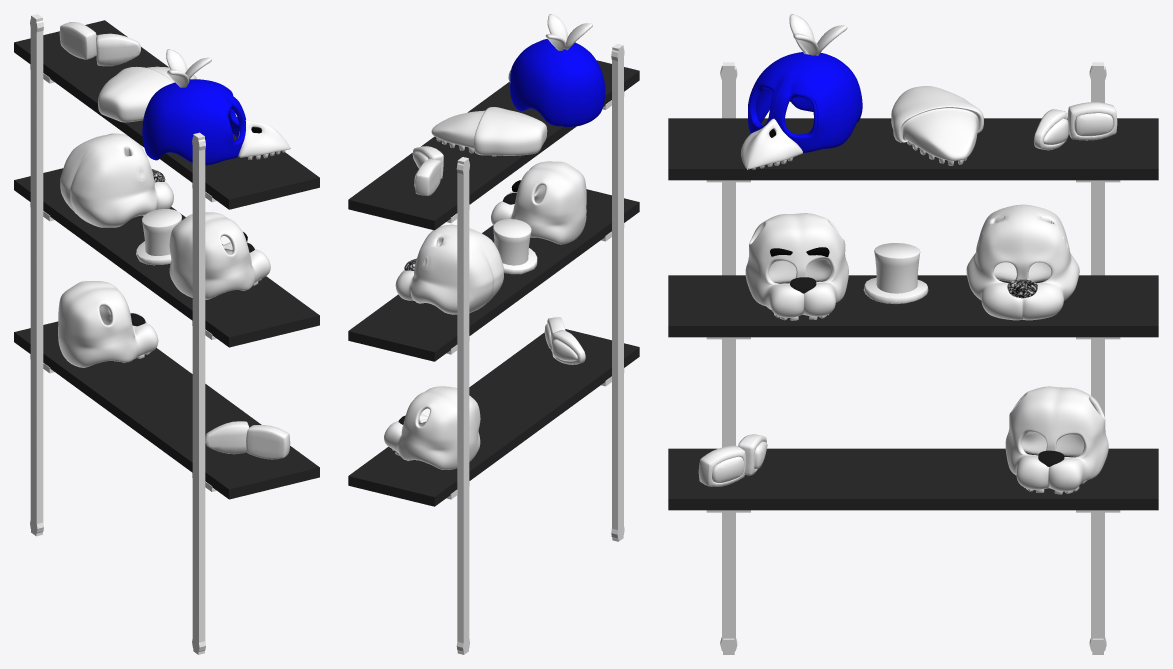
Rendered from BackstageShelf1.glb.
3 renders of one model, left to right at view 1: azimuth 30°, elevation 25°; view 2: azimuth 150°, elevation 25°; view 3: azimuth 270°, elevation 25°, orthographic. The views are drawn at different scales.
Visible parts, largest first — view 1: Cube.005, Cube.002, Cube.003, Cube, RIG_Bonnie.mo.001, RIG_Chica_Finale.mo.002, RIG_FreddyForJumpscare.mo.001, RIG_FreddyForJumpscare.mo.097, RIG_Chica_Finale.mo.006, Hat, RIG_Chica_Finale.mo.005, RIG_Bonnie.mo.003 (+3 smaller); view 2: Cube.005, Cube.002, Cube.003, Cube, RIG_Chica_Finale.mo.002, RIG_Bonnie.mo.001, RIG_FreddyForJumpscare.mo.097, RIG_FreddyForJumpscare.mo.001, RIG_Chica_Finale.mo.006, Hat, RIG_Bonnie.mo.005, RIG_Bonnie.mo.002 (+1 smaller); view 3: Cube.005, Cube, Cube.003, Cube.002, RIG_Bonnie.mo.001, RIG_FreddyForJumpscare.mo.001, RIG_FreddyForJumpscare.mo.097, RIG_Chica_Finale.mo.002, RIG_Chica_Finale.mo.006, Hat, RIG_Chica_Finale.mo.005, RIG_Bonnie.mo.002 (+3 smaller).
Part boxes in pixels (x1,y1,x2,y2): Cube.005: [14, 321, 319, 499]; Cube.002: [30, 14, 205, 654]; Cube.003: [14, 168, 319, 347]; Cube: [14, 20, 319, 209]; RIG_Bonnie.mo.001: [60, 133, 173, 227]; RIG_Chica_Finale.mo.002: [142, 79, 245, 165]; RIG_FreddyForJumpscare.mo.001: [58, 281, 158, 367]; RIG_FreddyForJumpscare.mo.097: [169, 212, 270, 299]; RIG_Chica_Finale.mo.006: [98, 66, 196, 122]; Hat: [136, 209, 181, 265]; RIG_Chica_Finale.mo.005: [238, 120, 290, 159]; RIG_Bonnie.mo.003: [246, 425, 290, 459]; Cube.005: [348, 329, 639, 506]; Cube.002: [456, 43, 624, 654]; Cube.003: [348, 189, 639, 361]; Cube: [348, 60, 639, 230]; RIG_Chica_Finale.mo.002: [510, 39, 605, 126]; RIG_Bonnie.mo.001: [395, 224, 503, 314]; RIG_FreddyForJumpscare.mo.097: [491, 161, 586, 244]; RIG_FreddyForJumpscare.mo.001: [384, 386, 480, 469]; RIG_Chica_Finale.mo.006: [431, 107, 547, 156]; Hat: [493, 219, 537, 274]; RIG_Bonnie.mo.005: [552, 330, 585, 364]; RIG_Bonnie.mo.002: [414, 158, 441, 195]; Cube.005: [668, 448, 1158, 510]; Cube: [668, 118, 1158, 180]; Cube.003: [668, 275, 1158, 337]; Cube.002: [720, 62, 1106, 654]; RIG_Bonnie.mo.001: [966, 204, 1079, 320]; RIG_FreddyForJumpscare.mo.001: [1005, 386, 1108, 494]; RIG_FreddyForJumpscare.mo.097: [745, 213, 848, 320]; RIG_Chica_Finale.mo.002: [748, 52, 862, 152]; RIG_Chica_Finale.mo.006: [891, 86, 983, 165]; Hat: [863, 243, 928, 303]; RIG_Chica_Finale.mo.005: [741, 118, 802, 169]; RIG_Bonnie.mo.002: [1067, 102, 1117, 140].
Size of the model in its own units: 2.21 by 10.25 by 7.11.
18 materials, 2 textured.
